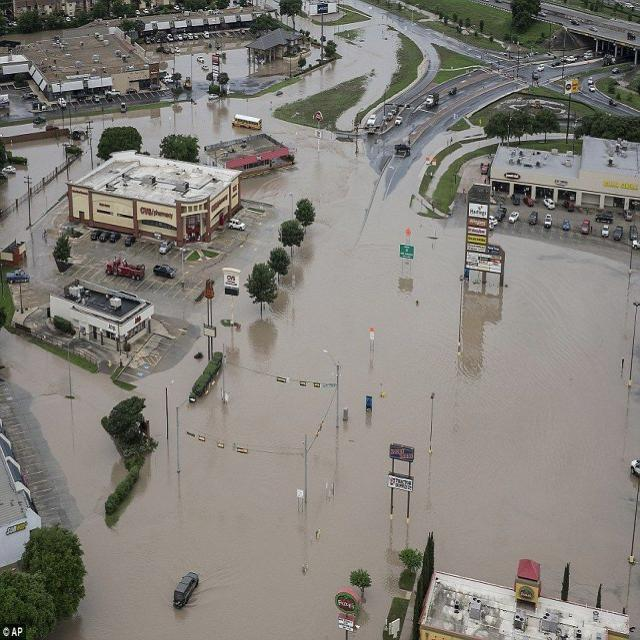flood: (0, 5, 640, 640), (0, 140, 64, 206)
house: (67, 148, 265, 240), (497, 136, 640, 215), (20, 44, 163, 104), (55, 286, 158, 351), (515, 554, 544, 611), (169, 568, 200, 614), (110, 256, 146, 282), (298, 2, 338, 18)
